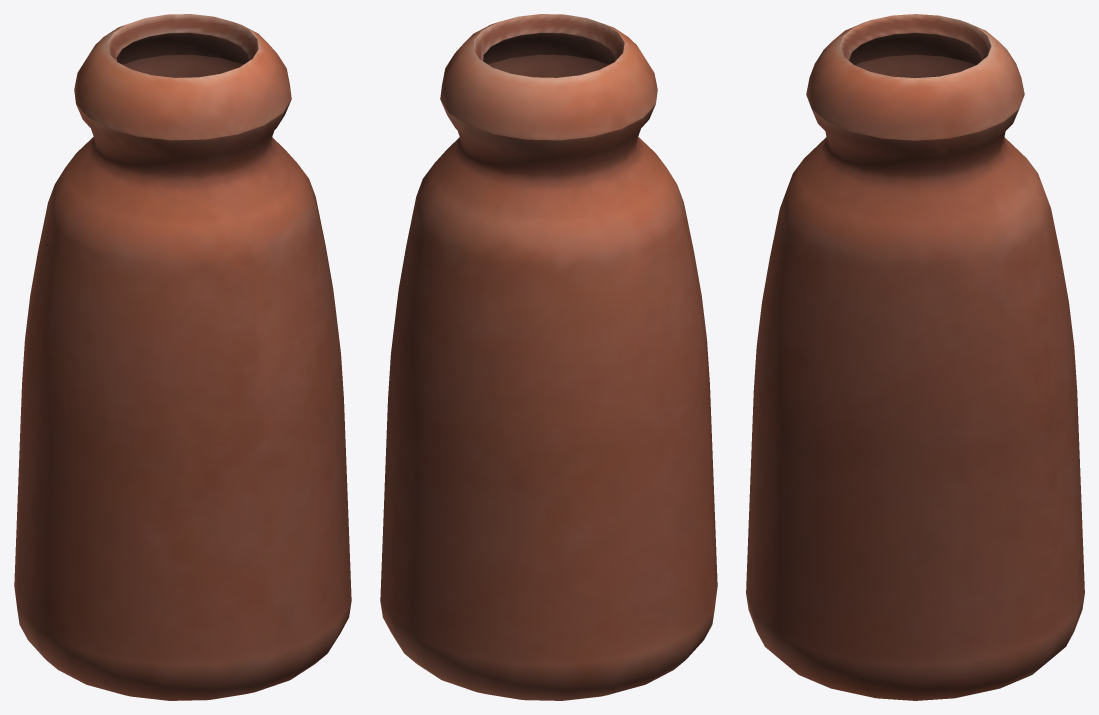
Rendered from SM_FlowerPot_04.fbx.
3 renders of one model, left to right at view 1: azimuth 30°, elevation 25°; view 2: azimuth 150°, elevation 25°; view 3: azimuth 270°, elevation 25°, orthographic.
Visible parts, largest first — view 1: SM_FlowerPot_04_LOD0; view 2: SM_FlowerPot_04_LOD0; view 3: SM_FlowerPot_04_LOD0.
Boxes of the visible parts, <box> form: SM_FlowerPot_04_LOD0: <box>14,14,351,700</box>; SM_FlowerPot_04_LOD0: <box>380,14,717,700</box>; SM_FlowerPot_04_LOD0: <box>746,14,1084,700</box>.
Size of the model in its own units: 23.13 by 23.13 by 45.5.
1 material, 1 textured.
